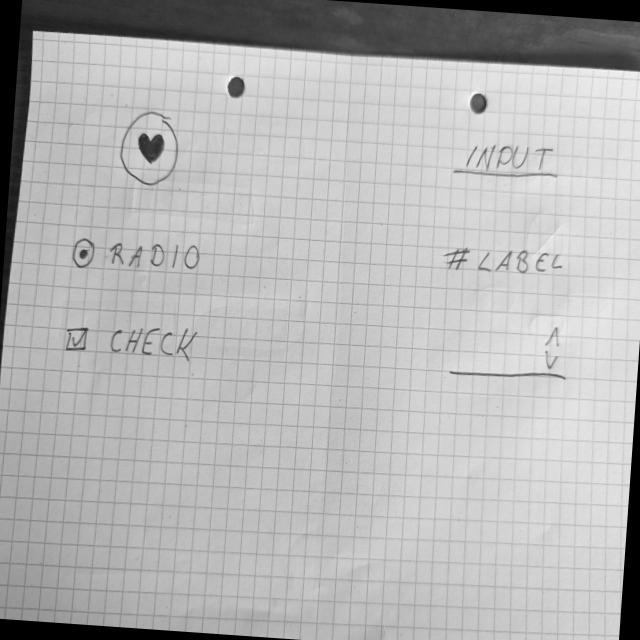checkbox: (62, 317, 201, 367)
icon-button: (118, 107, 184, 190)
input: (450, 138, 564, 185)
label: (440, 239, 567, 283)
number-input: (446, 318, 573, 388)
radio: (68, 232, 204, 280)
